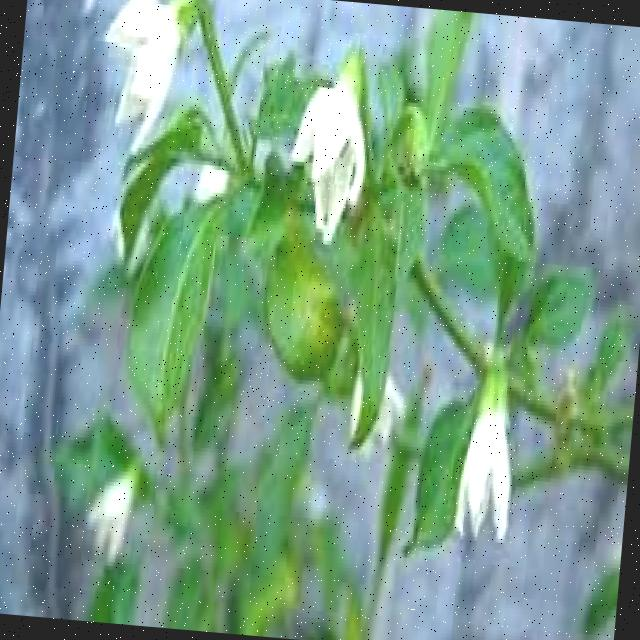healthy: (96, 154, 249, 463)
